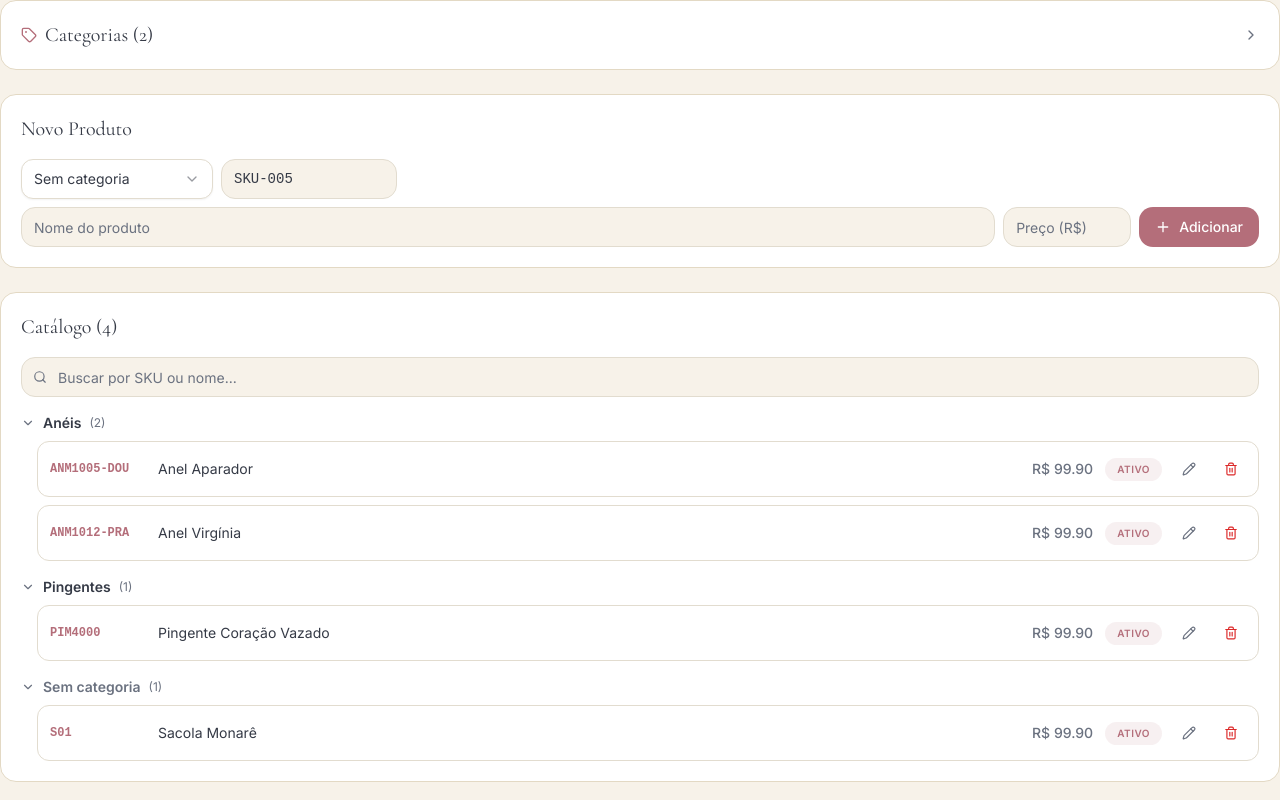
Test: Produtos · busca por SKU ou nome › mostra o resultado mesmo com a categoria recolhida
Expected: the heading "Catálogo (4)" is shown, [21,315,117,339]
Click the text "Anéis" at (62, 423), box [43,413,81,433]
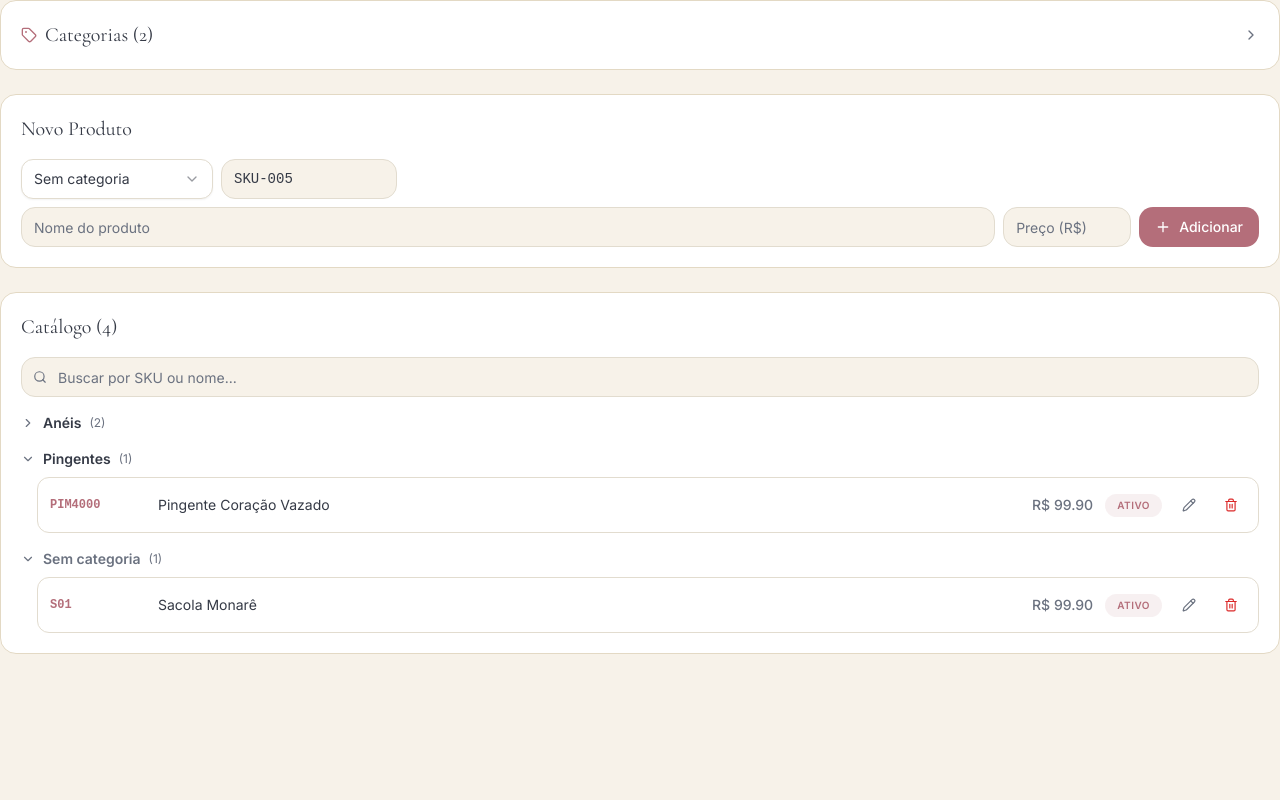
Expected: the text "ANM1005-DOU" is gone
Type "aparador" into the field with placeholder "Buscar por SKU ou nome..." at (640, 377), box [21,357,1259,397]
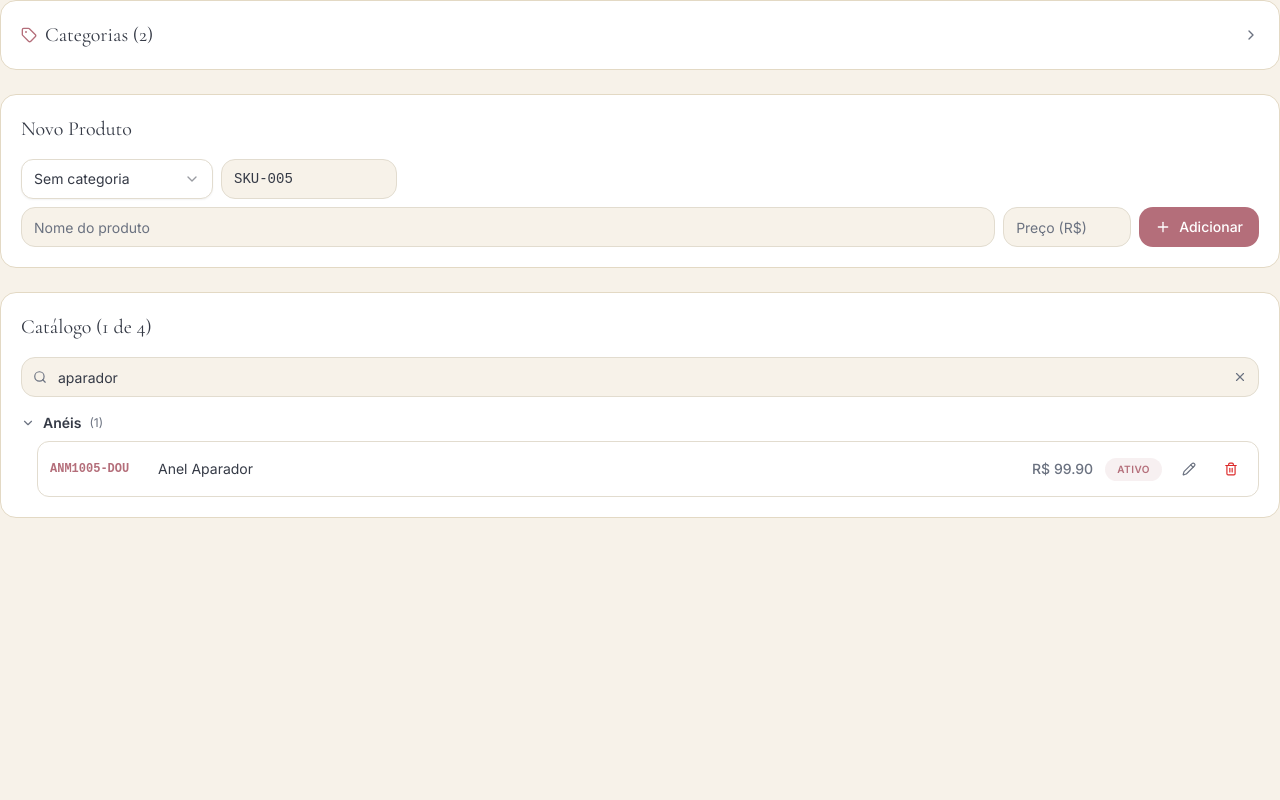
Expected: the text "ANM1005-DOU" is shown, [50,462,129,476]
